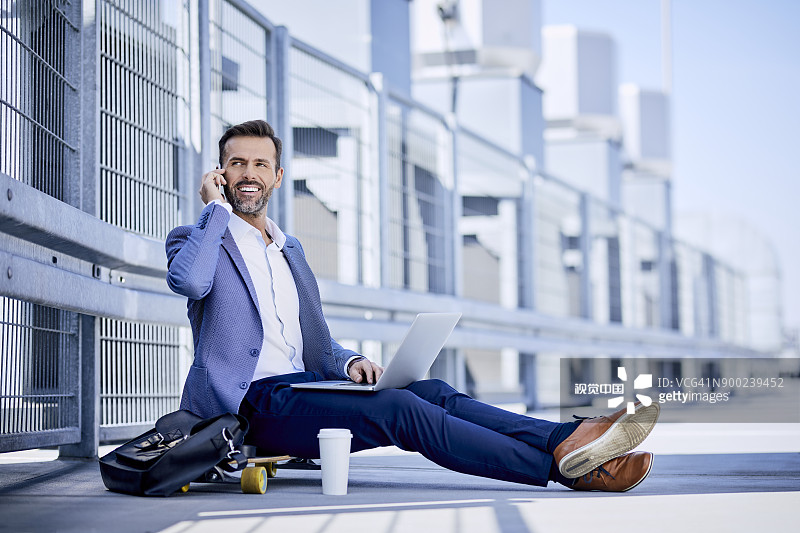calling: (189, 155, 244, 219)
no-phone: (341, 349, 396, 390)
